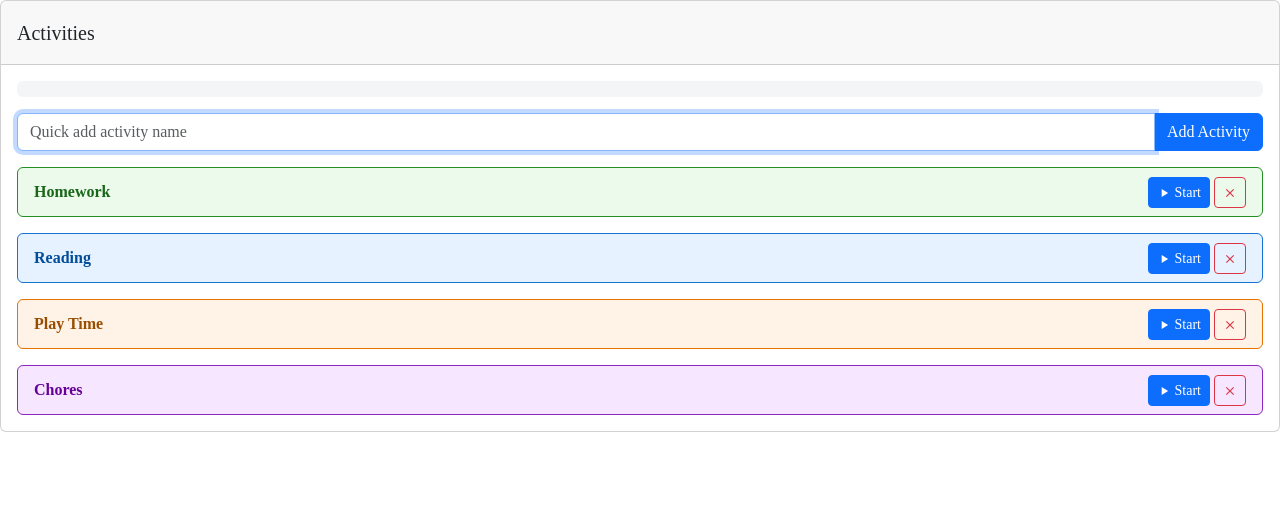
Scenario: ActivityManager Component › should allow adding a new activity
This screenshot has width=1280, height=515.
Type in a new activity name
Type "New Test Activity" into the field labelled "activity name" at (586, 132), box top-left (17, 113), bottom-right (1155, 151)
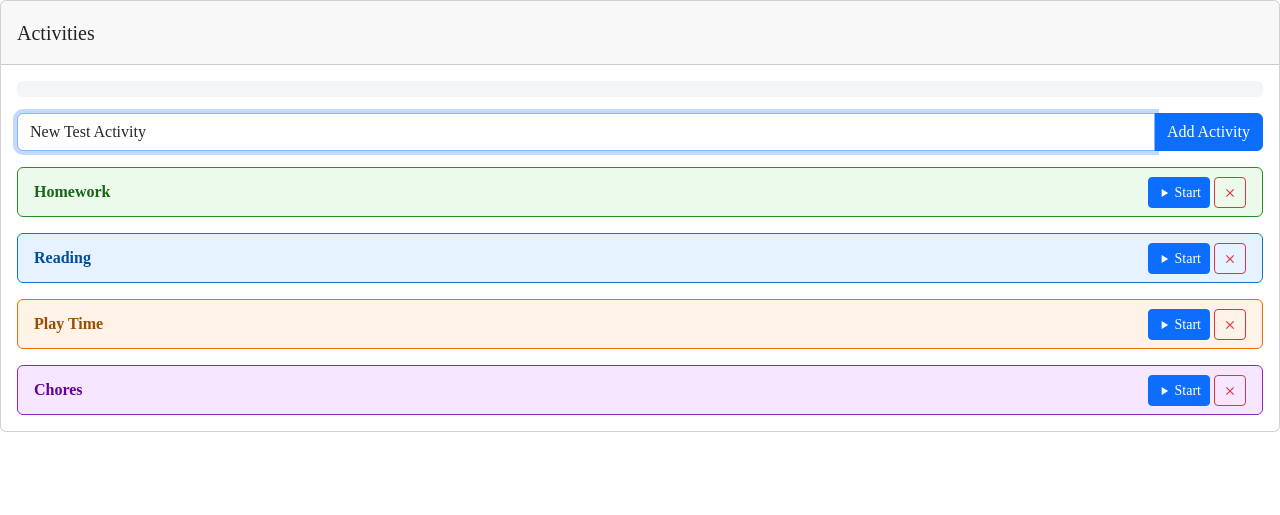
Click the Add Activity button
Click the button "Add Activity" at (1208, 132), box top-left (1154, 113), bottom-right (1263, 151)
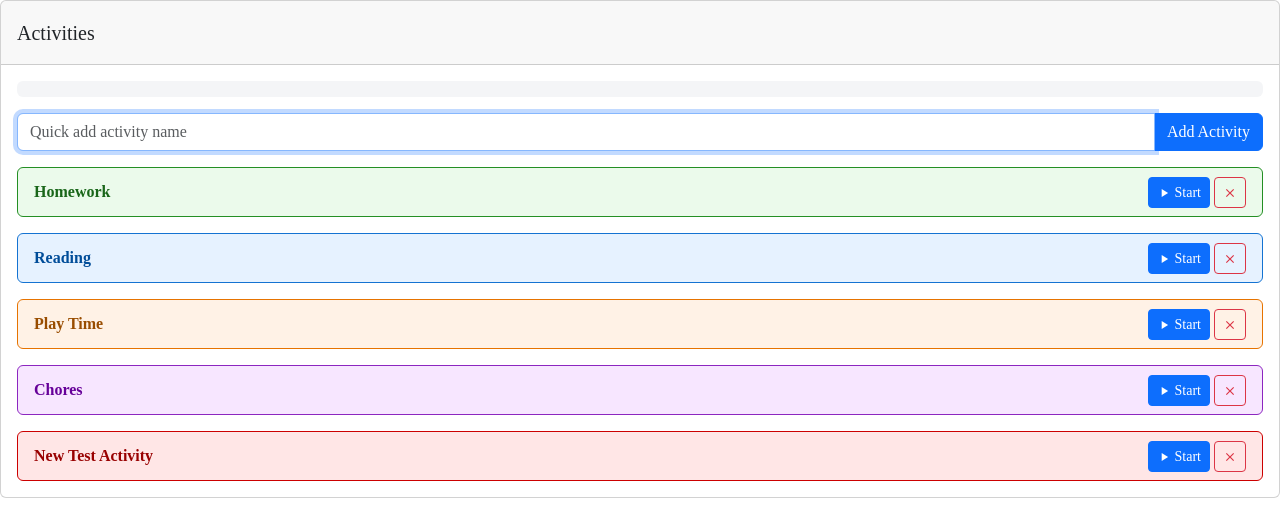
expect the heading "New Test Activity" is shown: met, box top-left (34, 447), bottom-right (153, 464)
expect the field labelled "activity name" is empty: met, box top-left (17, 113), bottom-right (1155, 151)
